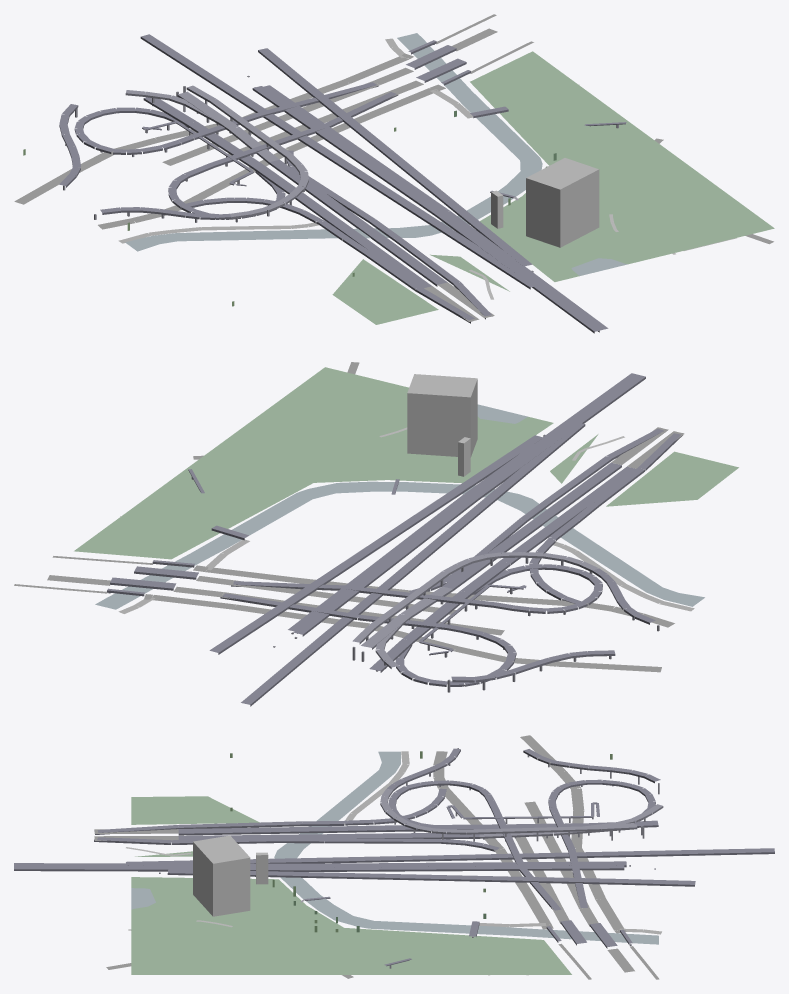
3 views of the same model, one above another, from view 1: azimuth 30°, elevation 25°; view 2: azimuth 150°, elevation 25°; view 3: azimuth 270°, elevation 25° (orthographic). The views are drawn at different scales.
Size of the model in its own units: 550 by 58.03 by 721.
